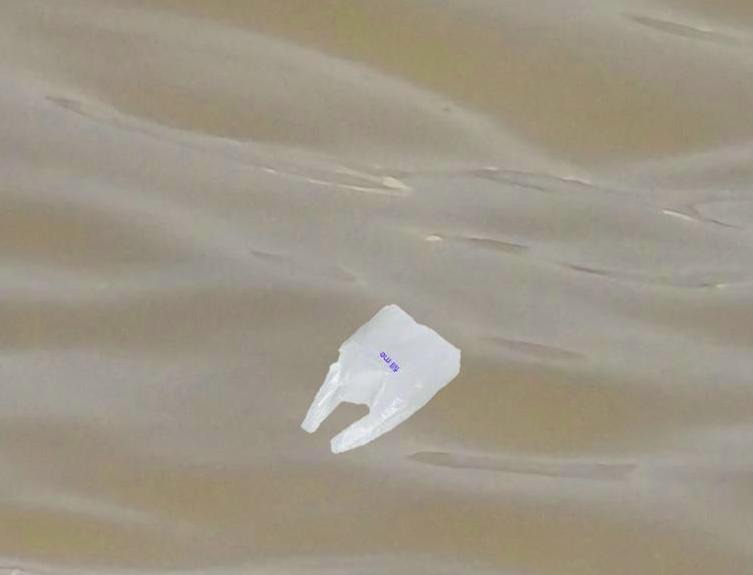Trash: (299, 301, 461, 457)
